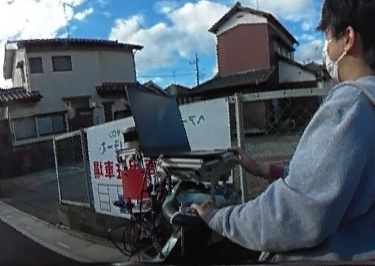person: (202, 1, 375, 258)
